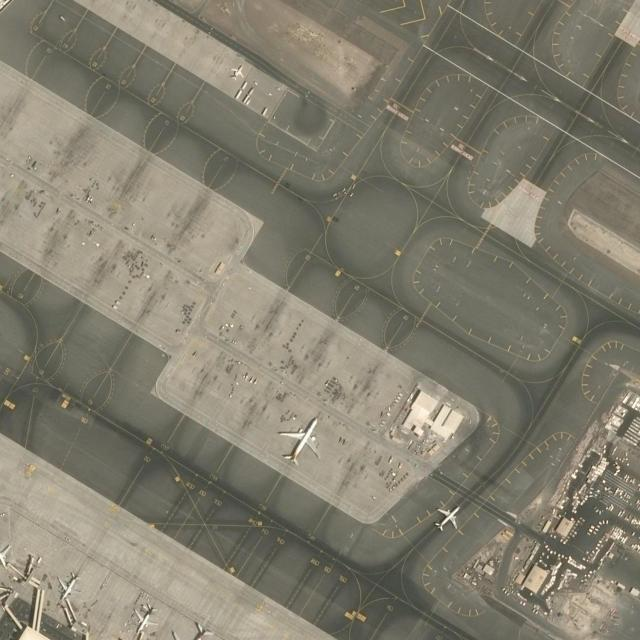Aircraft: (279, 413, 321, 464), (169, 615, 213, 639), (128, 600, 159, 632), (54, 571, 80, 602), (434, 501, 460, 531), (0, 538, 10, 566), (230, 64, 244, 80)
